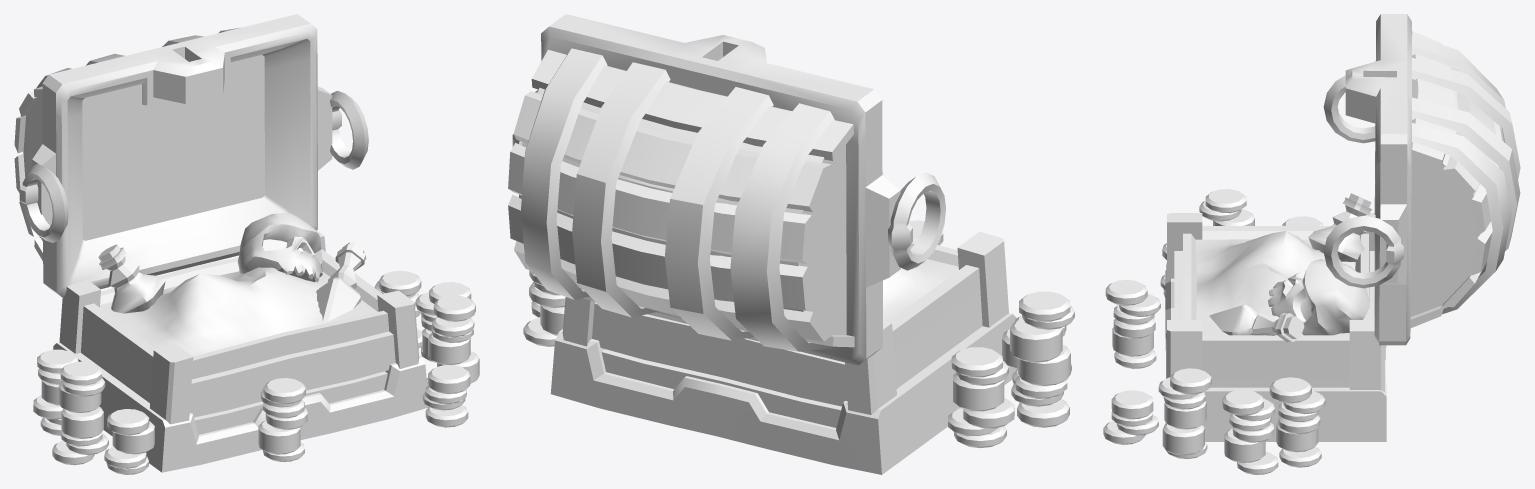
The model's file is chest.obj.
3 renders of one model, left to right at view 1: azimuth 30°, elevation 25°; view 2: azimuth 150°, elevation 25°; view 3: azimuth 270°, elevation 25°, orthographic. The views are drawn at different scales.
Visible parts, largest first — view 1: Prop_Chest_Gold; view 2: Prop_Chest_Gold; view 3: Prop_Chest_Gold.
Boxes of the visible parts, bbox=[...] form: Prop_Chest_Gold: bbox=[14, 14, 479, 474]; Prop_Chest_Gold: bbox=[508, 14, 1074, 474]; Prop_Chest_Gold: bbox=[1103, 14, 1520, 474].
Bounding box in the file's own units: 1.82 × 1.29 × 1.59.
Materials: 1 (1 with a texture image).
